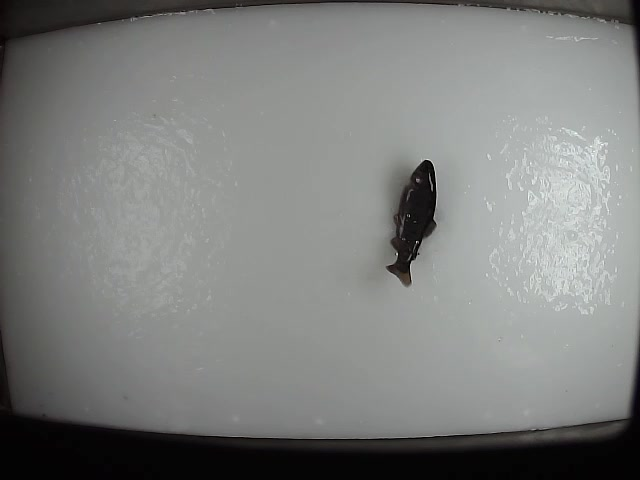fish: (385, 157, 441, 291)
